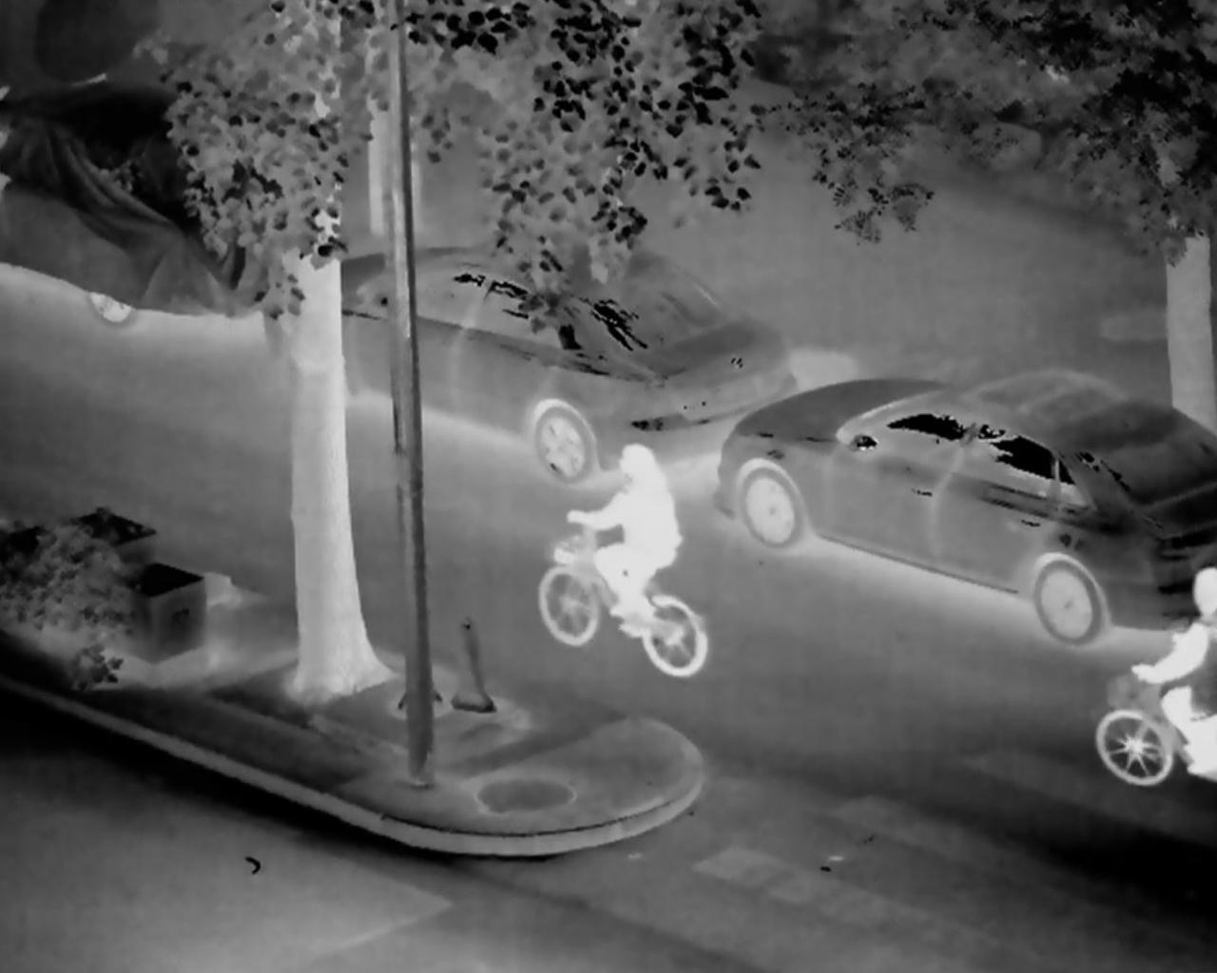person: (551, 430, 700, 646), (1102, 556, 1217, 779)
